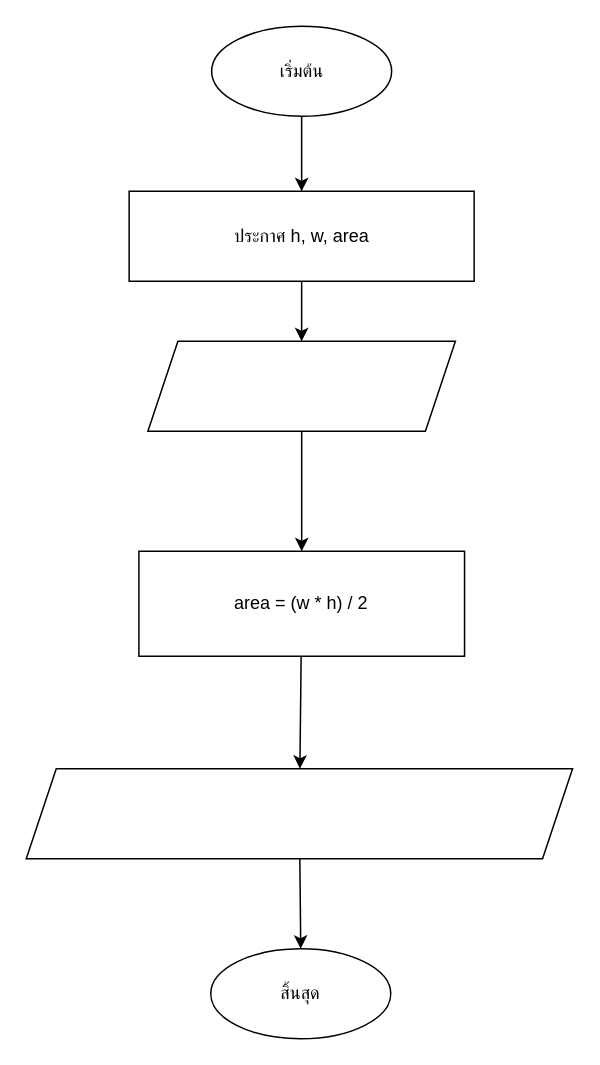
Some shapes in this 600 by 1065 pixel diagram are drawn without their labels. Each missing label, with the box of its shape:
รับค่า h, w: (146, 340, 455, 431)
แสดงค่า area (ทศนิยม 1 ตำแหน่ง): (25, 767, 573, 859)
